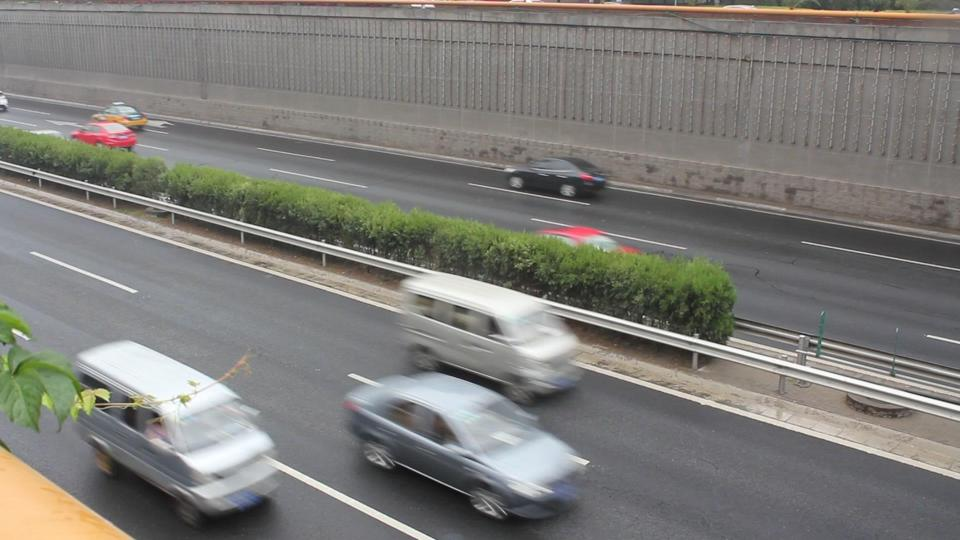Car: (345, 374, 583, 509), (483, 223, 642, 295), (503, 154, 600, 194), (69, 122, 136, 150), (90, 101, 146, 129)
Minivan: (74, 341, 279, 512), (397, 270, 581, 389)
